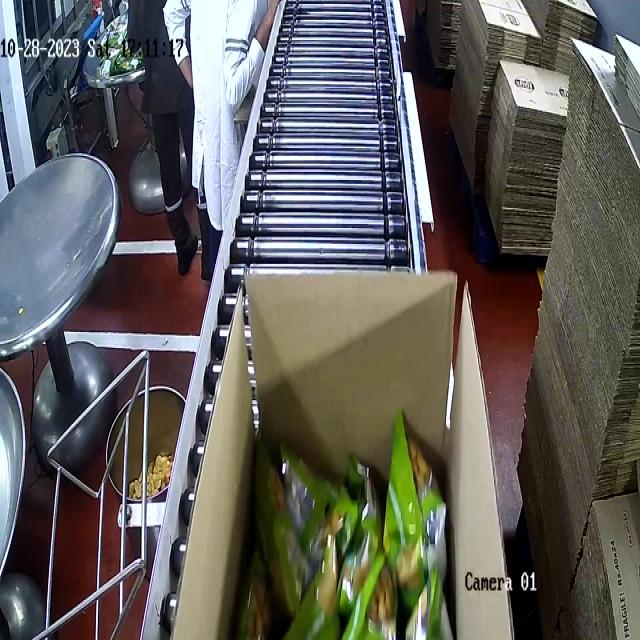YOGURT_HERB: (236, 425, 456, 639)
